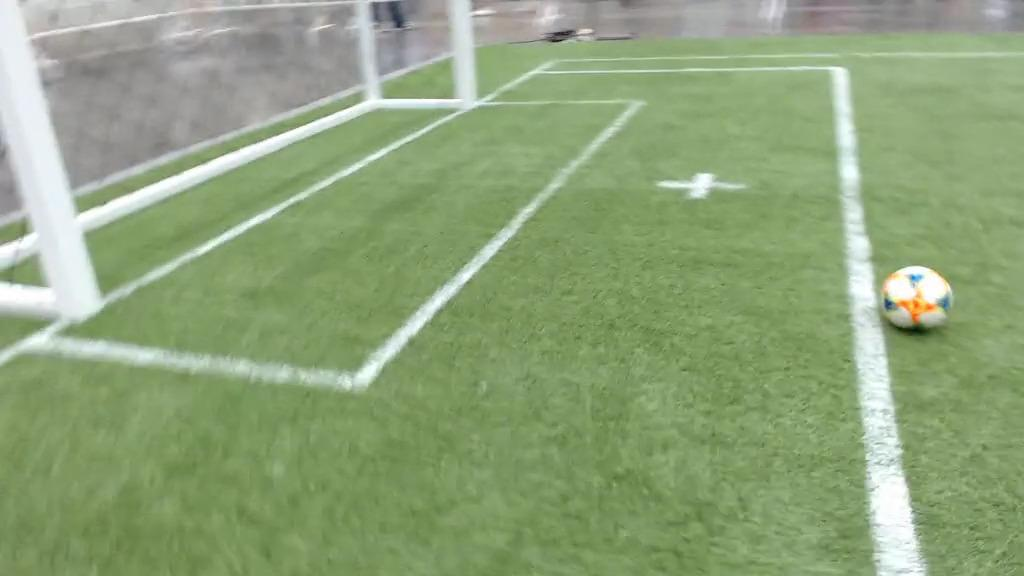ball: (880, 264, 951, 334)
